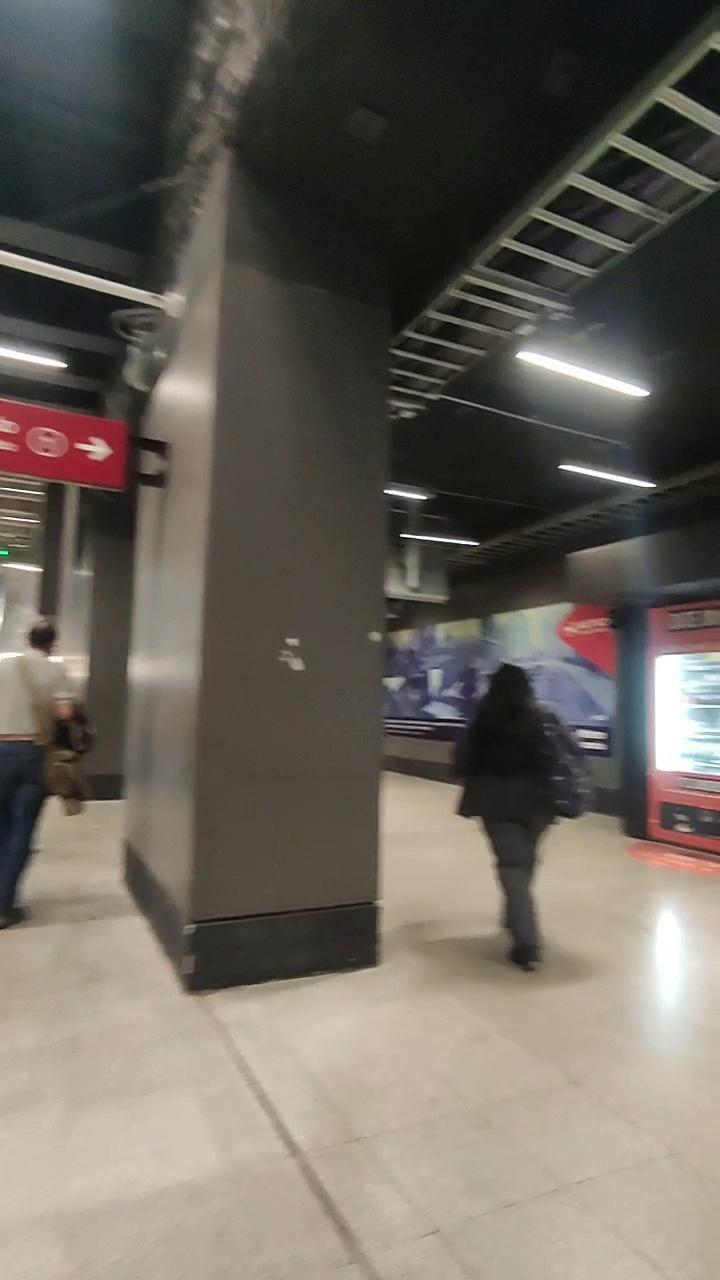right arrow: (76, 422, 112, 474)
